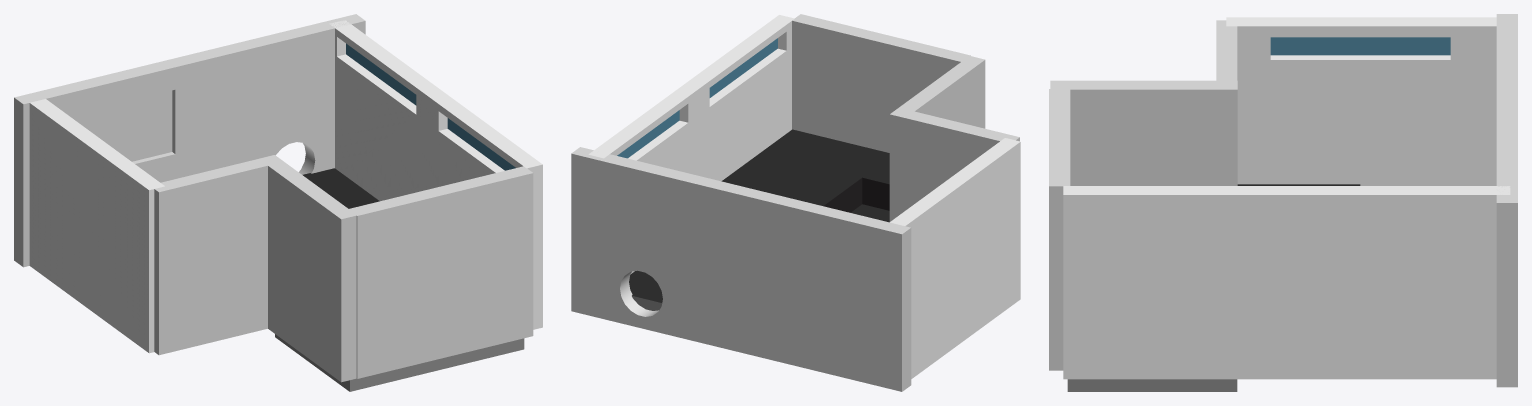
Rendered from Floor01.FBX.
3 renders of one model, left to right at view 1: azimuth 30°, elevation 25°; view 2: azimuth 150°, elevation 25°; view 3: azimuth 270°, elevation 25°, orthographic. The views are drawn at different scales.
Visible parts, largest first — view 1: Box009, Box007, Box003, Box002, Box008, Box006, Box004, Box001; view 2: Box009, Box003, Box002, Box007, Box004, Box006, Box008, Box001; view 3: Box002, Box003, Box006, Box009, Box007, Box004, Box008.
Boxes of the visible parts, box(x1,y1,x2,y2) form: Box009: box(14, 14, 365, 267); Box007: box(349, 166, 533, 378); Box003: box(29, 99, 164, 353); Box002: box(329, 20, 542, 329); Box008: box(154, 159, 267, 355); Box006: box(259, 155, 356, 382); Box004: box(275, 334, 524, 391); Box001: box(303, 168, 379, 208); Box009: box(571, 147, 911, 391); Box003: box(890, 138, 1020, 378); Box002: box(588, 15, 794, 274); Box007: box(792, 14, 970, 152); Box004: box(721, 129, 889, 222); Box006: box(889, 56, 985, 221); Box008: box(905, 111, 1019, 210); Box001: box(629, 270, 662, 310); Box002: box(1063, 186, 1510, 379); Box003: box(1226, 17, 1496, 185); Box006: box(1050, 80, 1237, 185); Box009: box(1496, 14, 1517, 387); Box007: box(1049, 89, 1070, 370); Box004: box(1067, 379, 1237, 391); Box008: box(1216, 20, 1237, 80).
Size of the model in its own units: 1538 by 782 by 1613.
